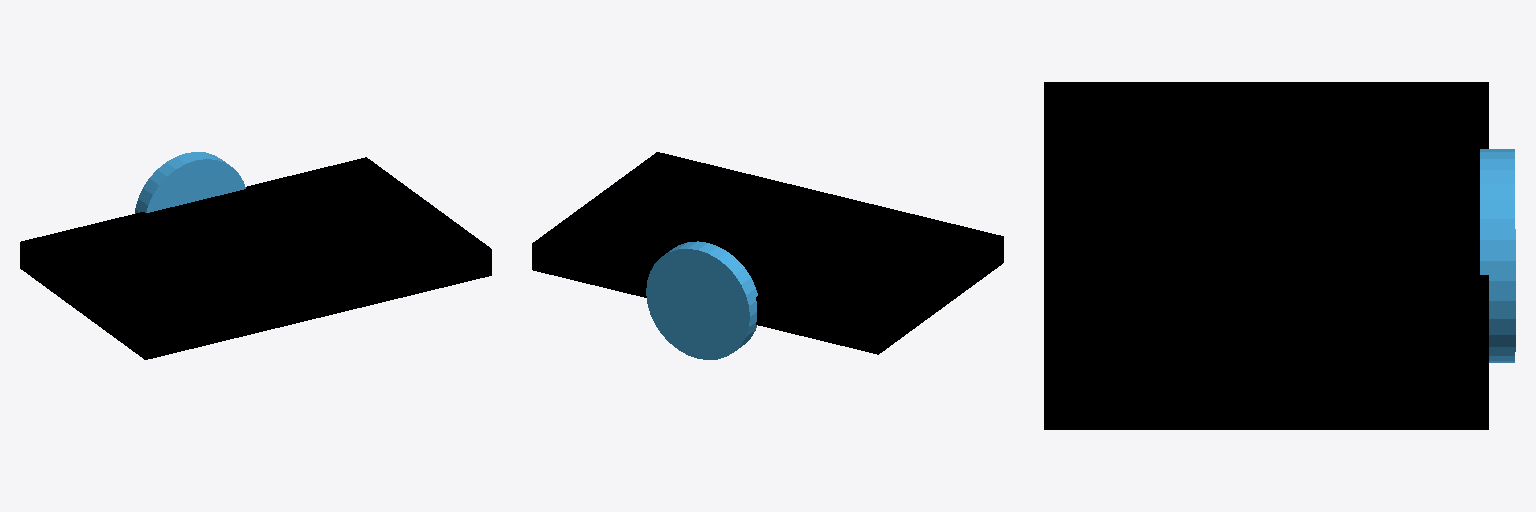
robot.urdf — myfirst:
<?xml version="1.0"?>
<robot name="myfirst" xmlns:xacro="http://www.ros.org/wiki/xacro">

  <link name="base_link">
    <visual>
      <geometry>
        <box size="0.8 0.5 0.06"/>
      </geometry>
      <material name="metal">
        <color rgba="0 0 0 1.0"/>
      </material>
    </visual>
    <collision>
      <geometry>
        <box size="0.8 0.5 0.06"/>
      </geometry>
    </collision>
    <inertial>
      <mass value="10"/>
      <inertia ixx="0.0" ixy="0.0" ixz="0.0" izz="0.0" iyy="0.0" iyz="0.0" />
    </inertial>
  </link>

  <link name="left_wheel_center">
    <visual>
      <geometry>
        <cylinder length="0.04" radius="0.12"/>
      </geometry>
      <origin rpy="0 0 0" xyz="0 0 0"/>
    </visual>

  <collision>
    <geometry>
      <cylinder length="0.04" radius="0.12"/>
    </geometry>
    <origin rpy="0 0 0" xyz="0 0 0"/>
  </collision>

  <inertial>
    <mass value="0.3"/>
    <inertia ixx="0.0" ixy="0.0" ixz="0.0" iyy="0.0" iyz="0.0" izz="0.0"/>
  </inertial>
  </link>



  <joint name="left_wheel_center_to_body" type="continuous">
    <parent link="base_link"/>
    <child link="left_wheel_center"/>
    <origin xyz="0 0.26 0" rpy="1.57 1.57 0"/>
    <axis xyz="0 0 1"/>
  </joint>

</robot>

--- What the picture shows (computed from the rendered views, not written in the file) ---
3 views of the same robot in one strip: view 1: azimuth 30°, elevation 25°; view 2: azimuth 150°, elevation 25°; view 3: azimuth 270°, elevation 25° (orthographic).
Model myfirst with 2 links and 1 joints (1 continuous), rooted at base_link, posed all joints at 0.
Links seen in each view (by area): view 1: base_link, left_wheel_center; view 2: base_link, left_wheel_center; view 3: base_link, left_wheel_center.
Link boxes in pixels (<box>): base_link: <box>20,157,491,359</box>; left_wheel_center: <box>135,152,245,213</box>; base_link: <box>532,152,1003,354</box>; left_wheel_center: <box>646,241,757,359</box>; base_link: <box>1044,82,1488,429</box>; left_wheel_center: <box>1480,149,1515,362</box>.
Size in the robot's own frame: 0.8 by 0.5301 by 0.24 metres.
Geometry: primitives only (box / cylinder / sphere), no mesh files.
